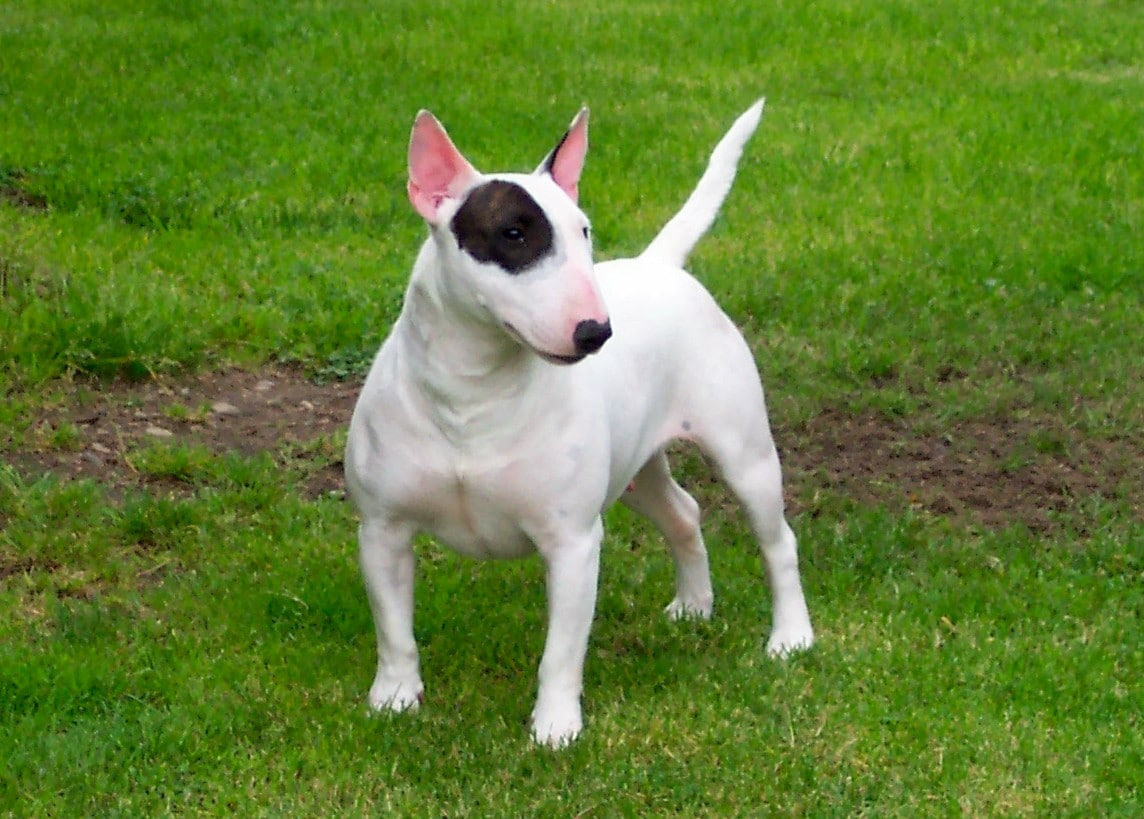bull_terrier: (342, 97, 815, 748)
